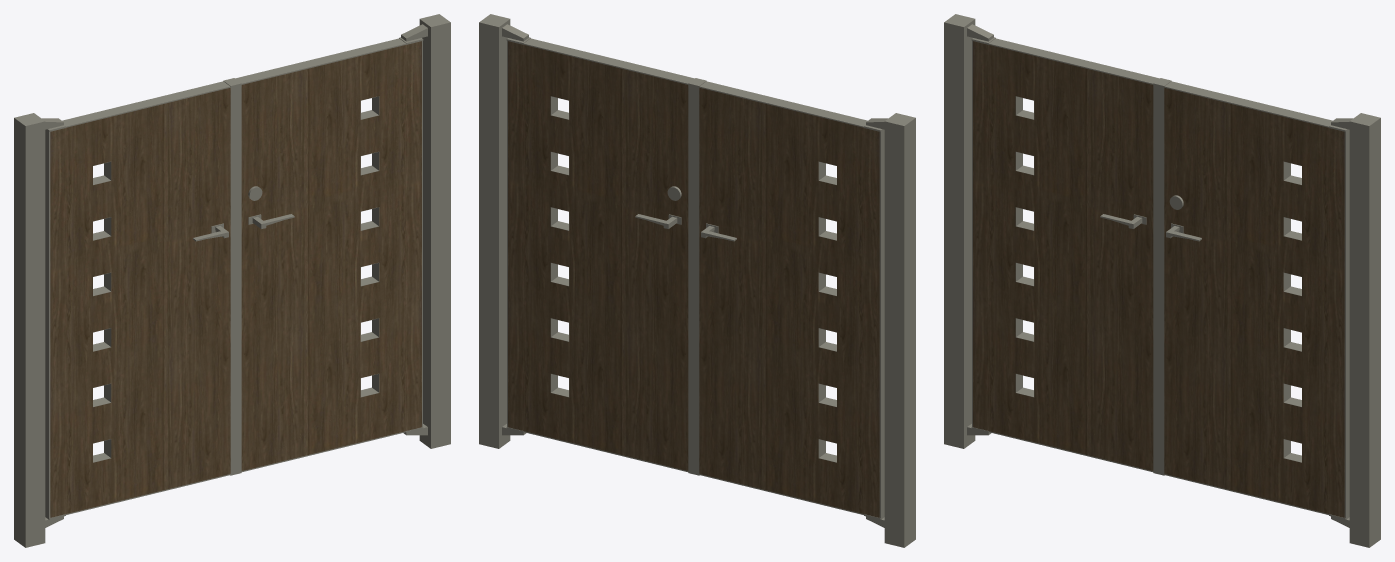
The model's file is abmonpi-komado_h1400-w1400_brownebony.fbx.
3 renders of one model, left to right at view 1: azimuth 30°, elevation 25°; view 2: azimuth 150°, elevation 25°; view 3: azimuth 330°, elevation 25°, orthographic.
Parts seen in each view (by area): view 1: abmonpi-komado_h1400-w1400_rustycopper.002; view 2: abmonpi-komado_h1400-w1400_rustycopper.002; view 3: abmonpi-komado_h1400-w1400_rustycopper.002.
Boxes of the visible parts, box(x1,y1,x2,y2) form: abmonpi-komado_h1400-w1400_rustycopper.002: box(14, 14, 450, 547); abmonpi-komado_h1400-w1400_rustycopper.002: box(479, 14, 915, 547); abmonpi-komado_h1400-w1400_rustycopper.002: box(944, 14, 1380, 547).
Bounding box in the file's own units: 160 × 152 × 16.7.
Materials: 2 (2 with a texture image).
